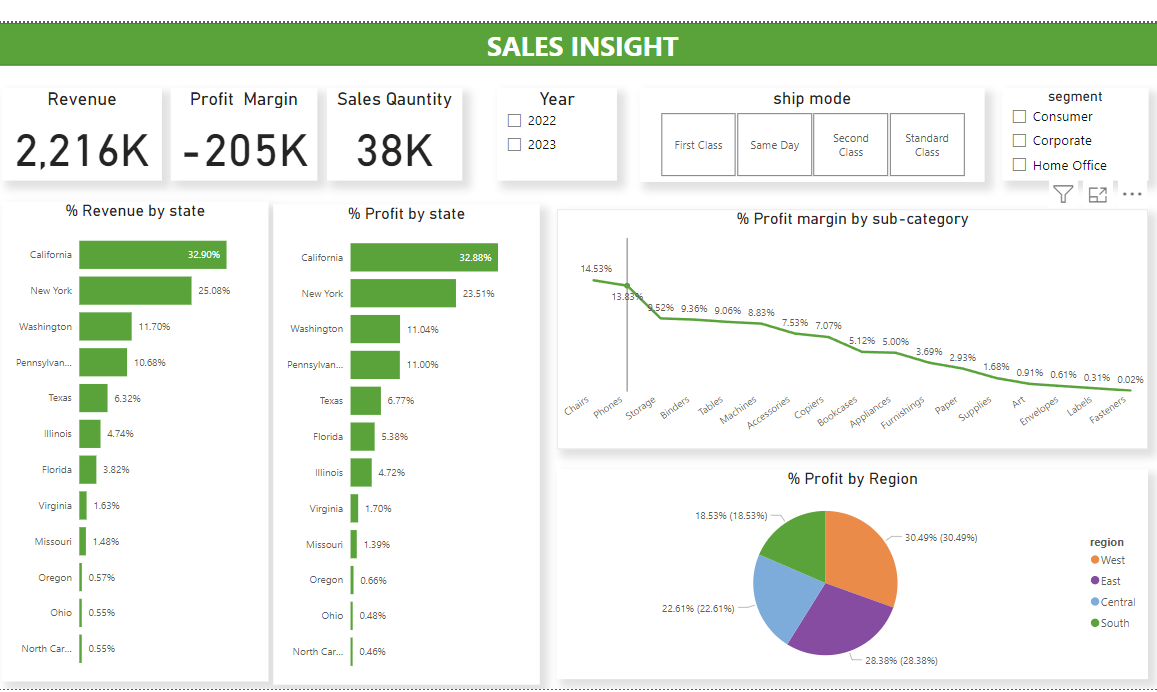

Layout of this report page (visuals, bound fields, positions):
{"tool":"powerbi","page":{"name":"Page 1","canvas":[1280,720],"ordinal":0},"visuals":[{"type":"card","title":" Revenue","fields":{"Values":["retail_orders df_orders.total_sales"]},"box":[0,16,192,96],"z":0},{"type":"clusteredBarChart","title":"% Revenue  by state","fields":{"Y":["retail_orders df_orders.% Revenue by City"],"Category":["retail_orders df_orders.state"]},"box":[0,144,320,576],"z":1000},{"type":"slicer","title":"segment","fields":{"Values":["retail_orders df_orders.segment"]},"box":[1104,16,176,112],"z":2000},{"type":"slicer","title":"ship mode","fields":{"Values":["retail_orders df_orders.ship_mode"]},"box":[672,16,432,96],"z":3000},{"type":"lineChart","title":"% Profit margin by sub-category","fields":{"Category":["retail_orders df_orders.sub_category"],"Y":["retail_orders df_orders.% profit margin by sub-category"]},"box":[608,128,672,304],"z":4000},{"type":"card","title":"Profit  Margin","fields":{"Values":["retail_orders df_orders.total profit"]},"box":[192,16,192,112],"z":5000},{"type":"card","title":"Sales Qauntity","fields":{"Values":["Sum(retail_orders df_orders.quantity)"]},"box":[368,16,192,112],"z":6000},{"type":"clusteredBarChart","title":"% Profit by state","fields":{"Category":["retail_orders df_orders.state"],"Y":["retail_orders df_orders.% profit margin  by state"]},"box":[288,144,320,576],"z":7000},{"type":"slicer","title":"Year","fields":{"Values":["retail_orders df_orders.year"]},"box":[544,16,144,96],"z":8000},{"type":"pieChart","title":"% Profit  by Region","fields":{"Y":["retail_orders df_orders.% Profit by Region"],"Category":["retail_orders df_orders.region"]},"box":[608,432,672,288],"z":9000}]}

Visuals, with their boxes on the page's 1280x720 design canvas (x1, y1, x2, y2). These are canvas units, not pixel positions in the 1157x692 screenshot, which may show the page scaled, cropped or inside an application window:
" Revenue" card: bbox=(0, 16, 192, 112)
"% Revenue  by state" clusteredBarChart: bbox=(0, 144, 320, 720)
"segment" slicer: bbox=(1104, 16, 1280, 128)
"ship mode" slicer: bbox=(672, 16, 1104, 112)
"% Profit margin by sub-category" lineChart: bbox=(608, 128, 1280, 432)
"Profit  Margin" card: bbox=(192, 16, 384, 128)
"Sales Qauntity" card: bbox=(368, 16, 560, 128)
"% Profit by state" clusteredBarChart: bbox=(288, 144, 608, 720)
"Year" slicer: bbox=(544, 16, 688, 112)
"% Profit  by Region" pieChart: bbox=(608, 432, 1280, 720)
